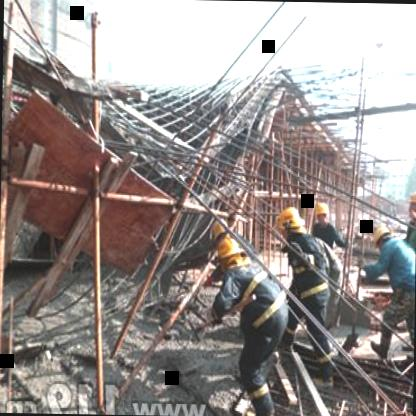helmet: (208, 236, 250, 270), (277, 204, 306, 240), (370, 226, 394, 253), (312, 202, 332, 228), (405, 190, 416, 226)
